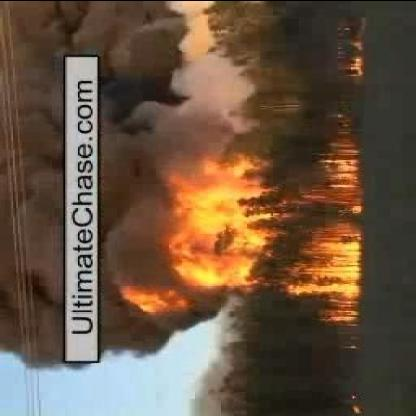-: (104, 51, 180, 343), (9, 56, 61, 366)
foggia-v2-map80-epoch100 - v1 4323: (292, 238, 358, 292)
